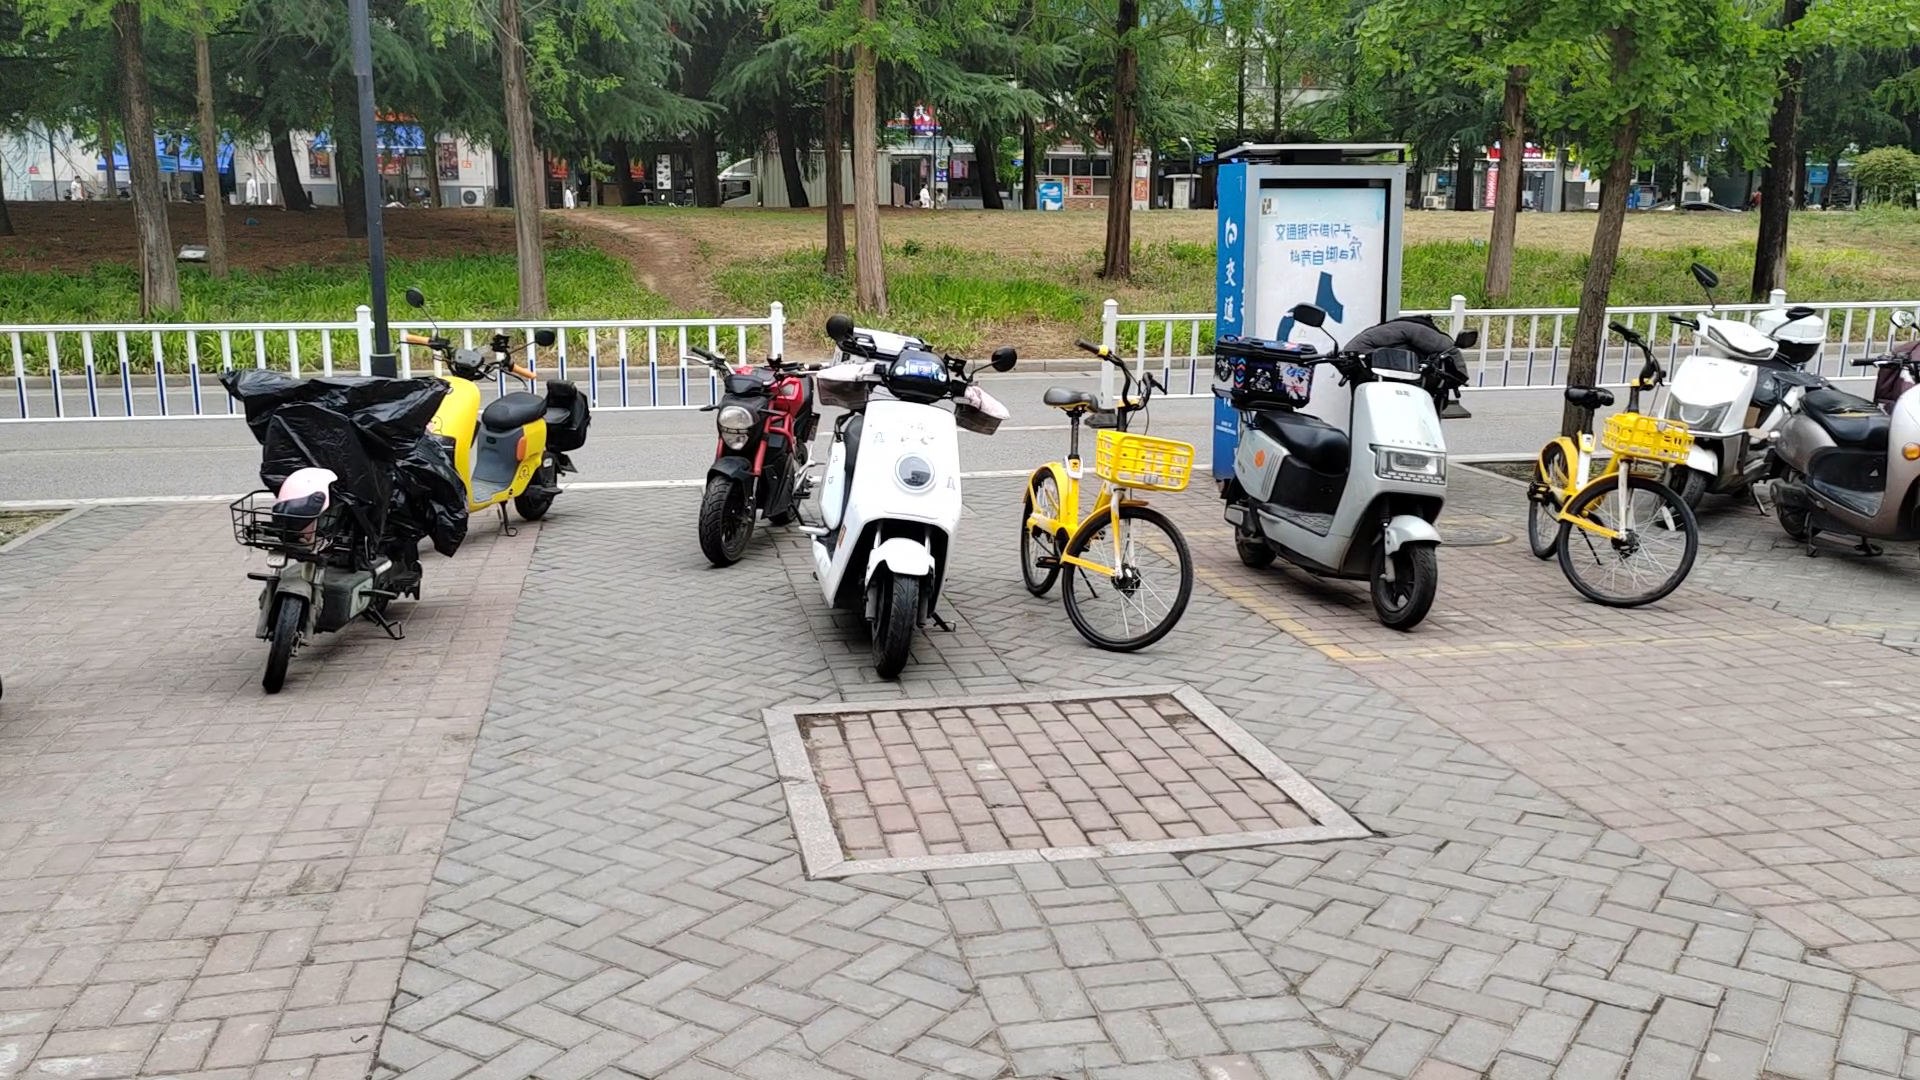others: (1217, 276, 1455, 644), (798, 301, 1021, 665), (224, 339, 452, 669), (398, 294, 605, 541), (1758, 334, 1920, 589), (1689, 265, 1799, 533), (702, 344, 823, 568)
shared_bike_meituan: (1524, 297, 1713, 680), (1007, 339, 1189, 705)
